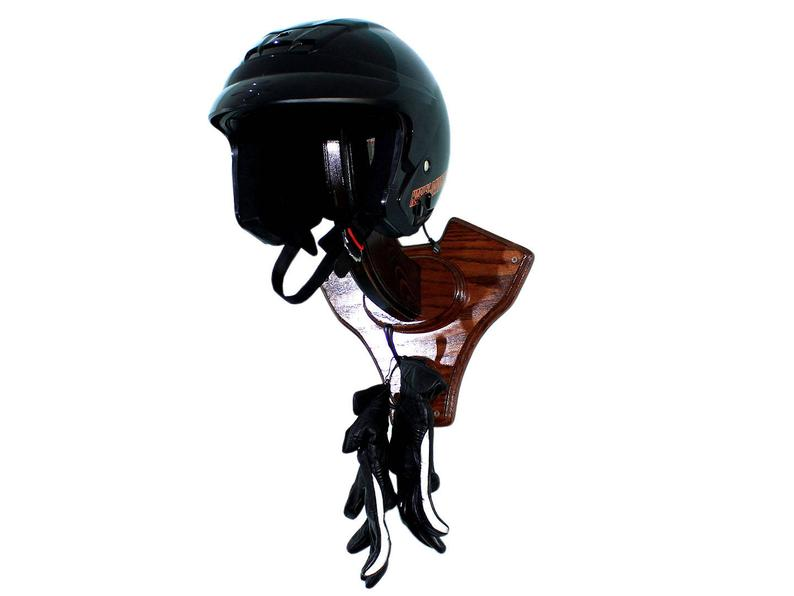with_helmet: (205, 8, 493, 308)
